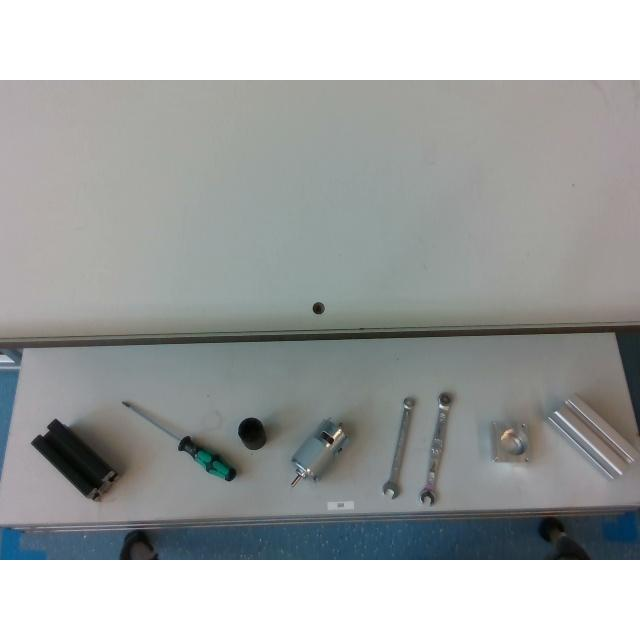Motor2: (290, 418, 346, 486)
S40_40_B: (31, 419, 117, 499)
S40_40_G: (546, 394, 636, 478)
Screwdriver: (122, 400, 236, 480)
Wrench: (419, 392, 453, 504)
